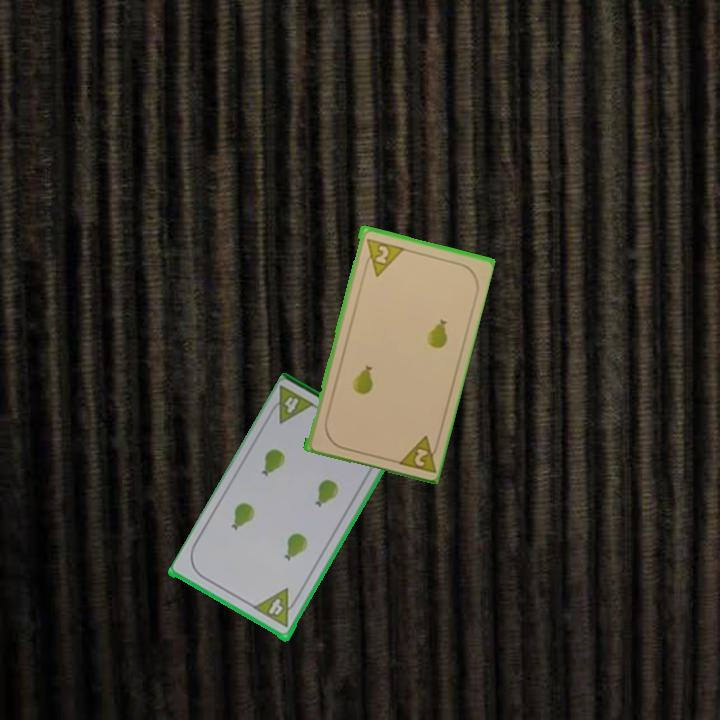2p: (392, 431, 442, 475), (361, 235, 405, 279)
4p: (264, 382, 319, 427), (251, 585, 302, 631)
